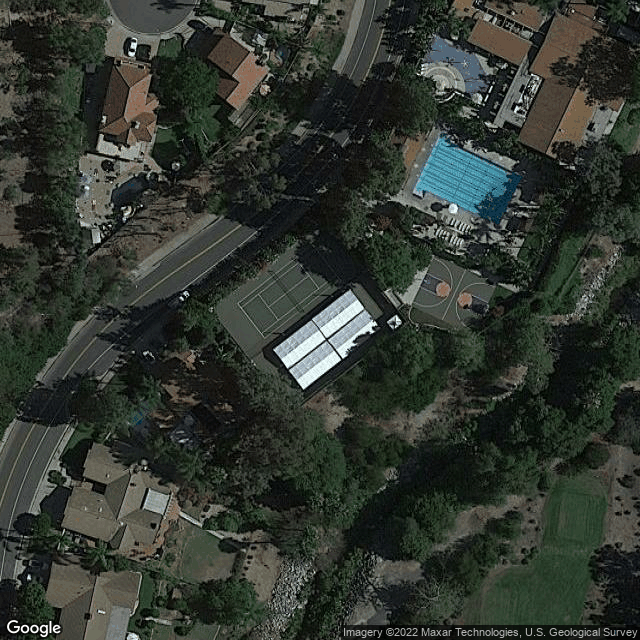Court: (238, 237, 342, 338)
